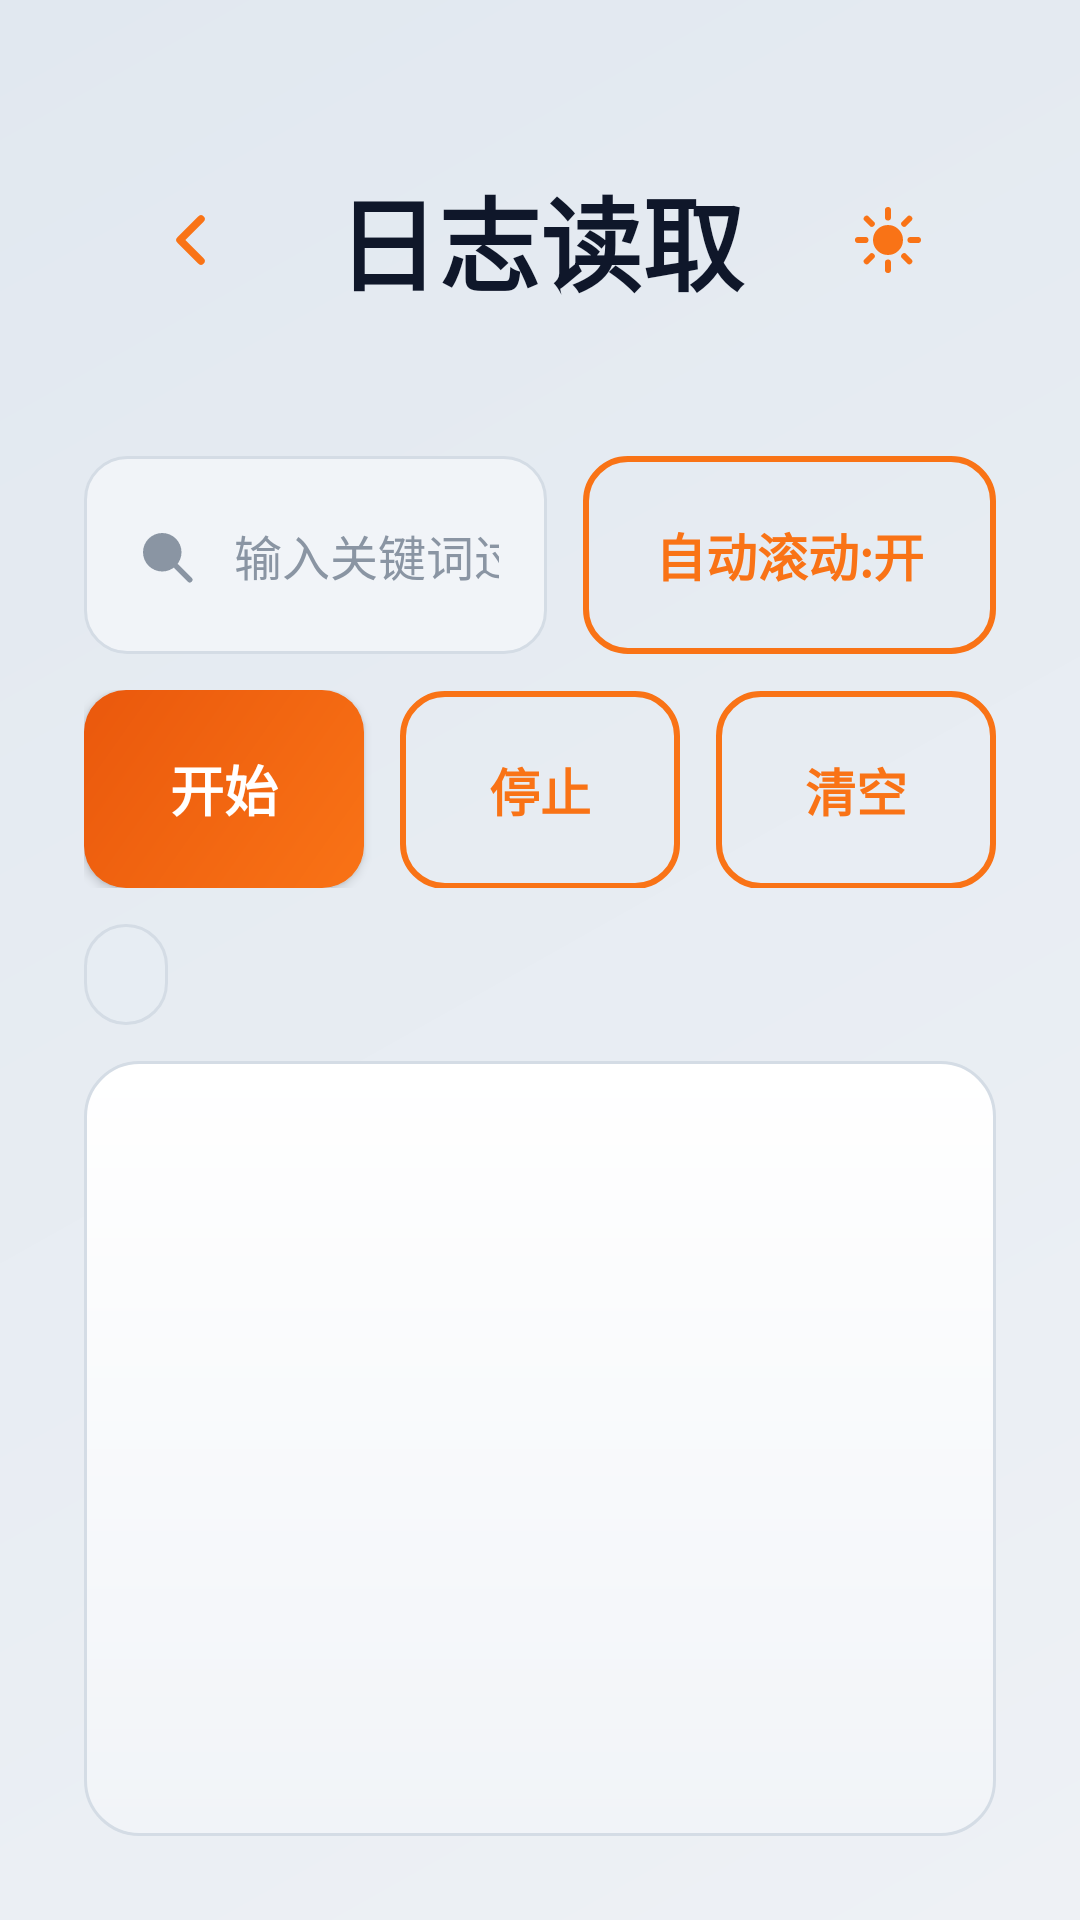

Named icons in this screenshot (1080 x 1920) and their bounding boxes, {"x1": x1, "y1": y1, "x2": x2, "y2": y2}:
search: {"x1": 143, "y1": 533, "x2": 193, "y2": 583}
切换昼夜: {"x1": 855, "y1": 207, "x2": 921, "y2": 273}
返回: {"x1": 176, "y1": 215, "x2": 205, "y2": 265}
